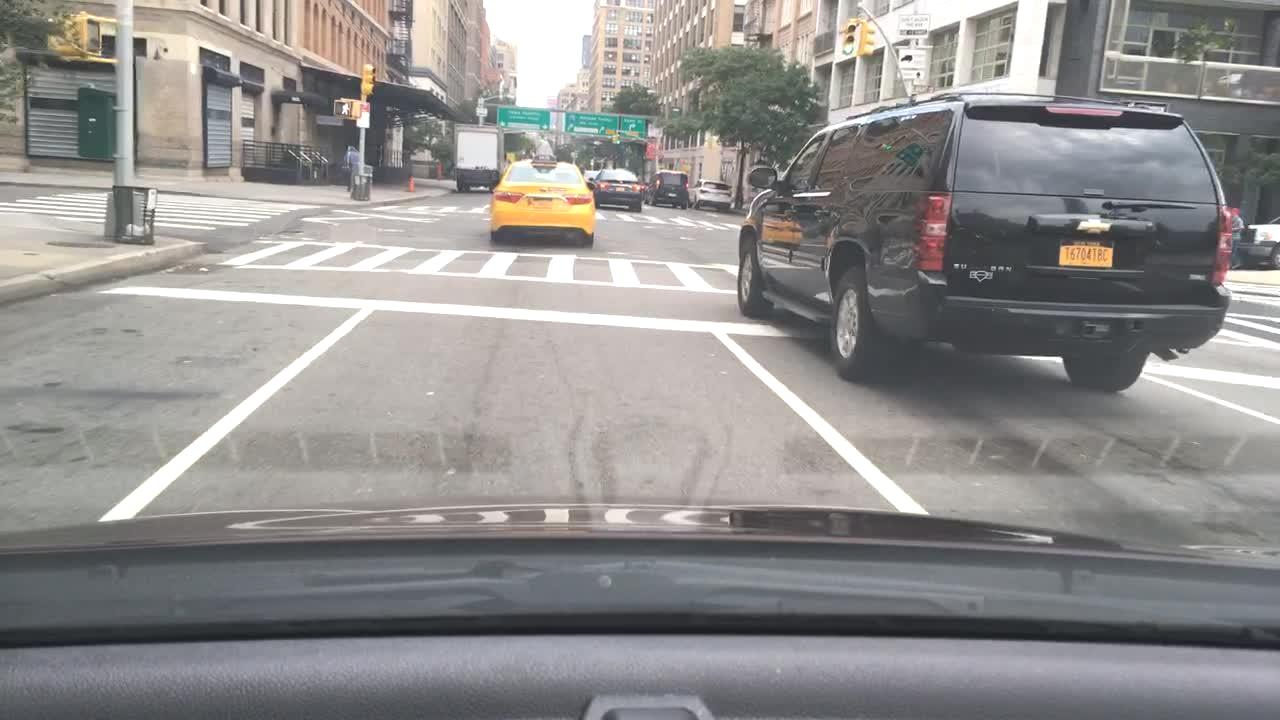chevrolet: (1069, 209, 1121, 245)
